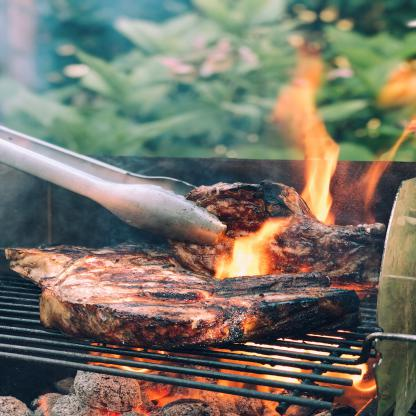Carne: (44, 249, 232, 340)
